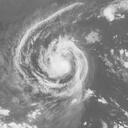cyclone: (13, 23, 96, 99)
